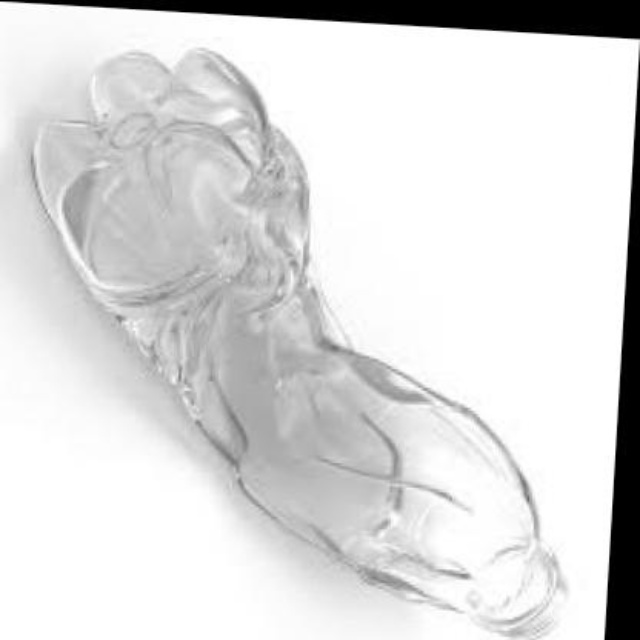trash: (32, 49, 563, 637)
